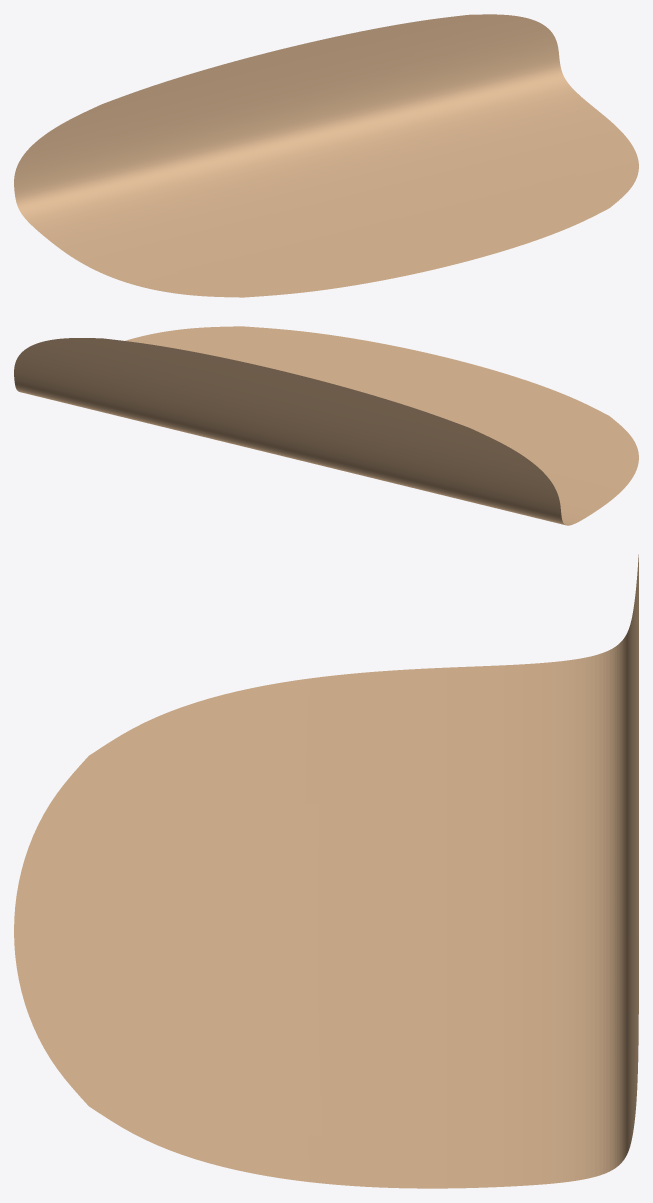
3 views of the same model, one above another, from view 1: azimuth 30°, elevation 25°; view 2: azimuth 150°, elevation 25°; view 3: azimuth 270°, elevation 25° (orthographic). The views are drawn at different scales.
Visible parts, largest first — view 1: Plane.010; view 2: Plane.010; view 3: Plane.010.
Boxes of the visible parts, <box> form: Plane.010: <box>14,14,638,297</box>; Plane.010: <box>14,326,638,525</box>; Plane.010: <box>14,554,638,1188</box>.
Bounding box in the file's own units: 285 × 50.9 × 144.
